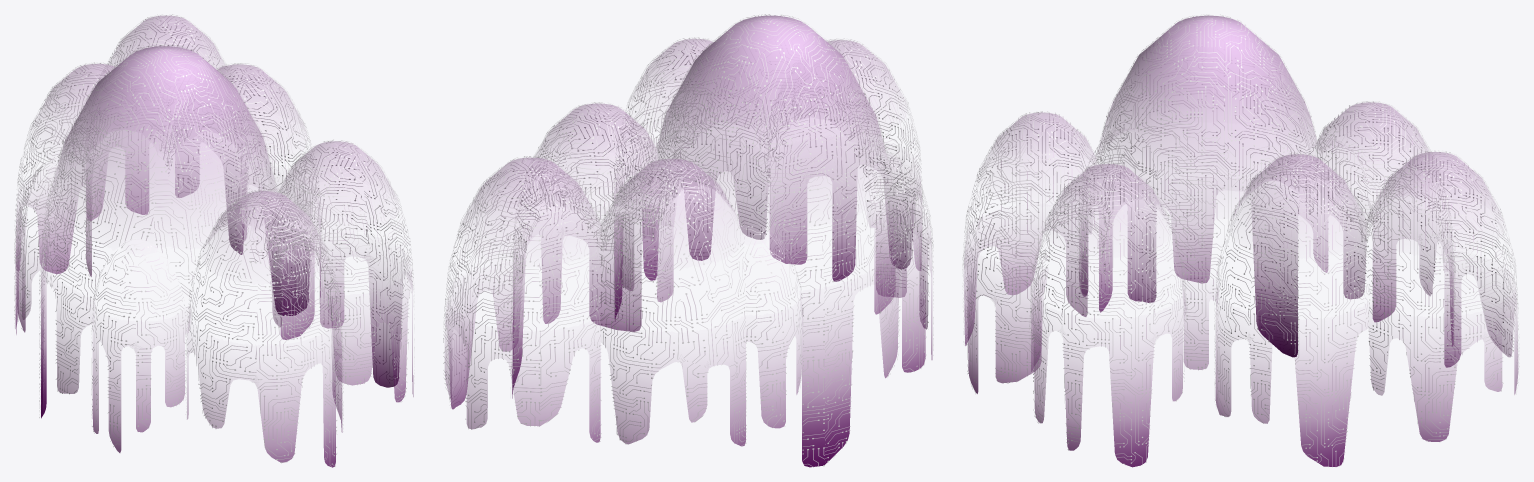
The model's file is Dome01_Art.glb.
3 views of the same model, side by side, from view 1: azimuth 30°, elevation 25°; view 2: azimuth 150°, elevation 25°; view 3: azimuth 270°, elevation 25° (orthographic). The views are drawn at different scales.
Visible parts, largest first — view 1: Dome01_Art; view 2: Dome01_Art; view 3: Dome01_Art.
Boxes of the visible parts, bbox=[...] form: Dome01_Art: bbox=[14, 14, 414, 467]; Dome01_Art: bbox=[443, 14, 933, 467]; Dome01_Art: bbox=[962, 14, 1519, 467].
Size of the model in its own units: 27.64 by 33 by 44.26.
Materials: 2 (2 with a texture image).
